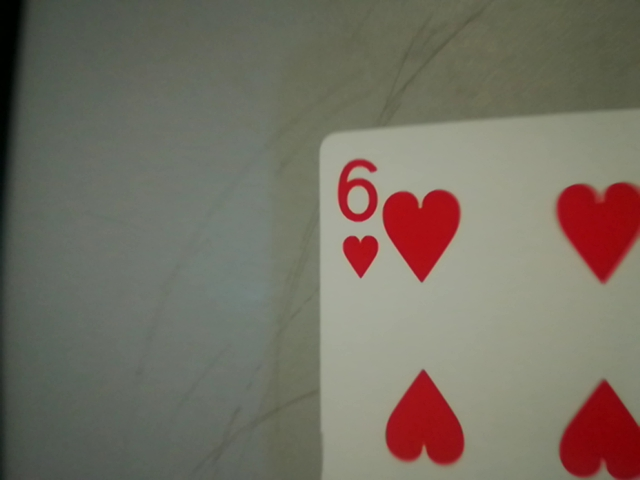hx 6: (325, 151, 389, 282)
